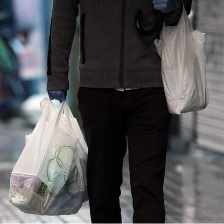plastic_bag: (5, 94, 86, 218), (149, 0, 215, 117)
